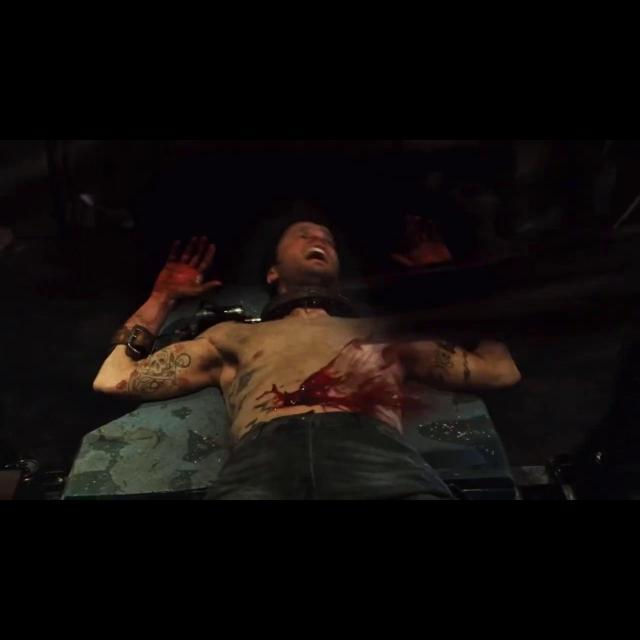blood: (254, 340, 405, 431)
